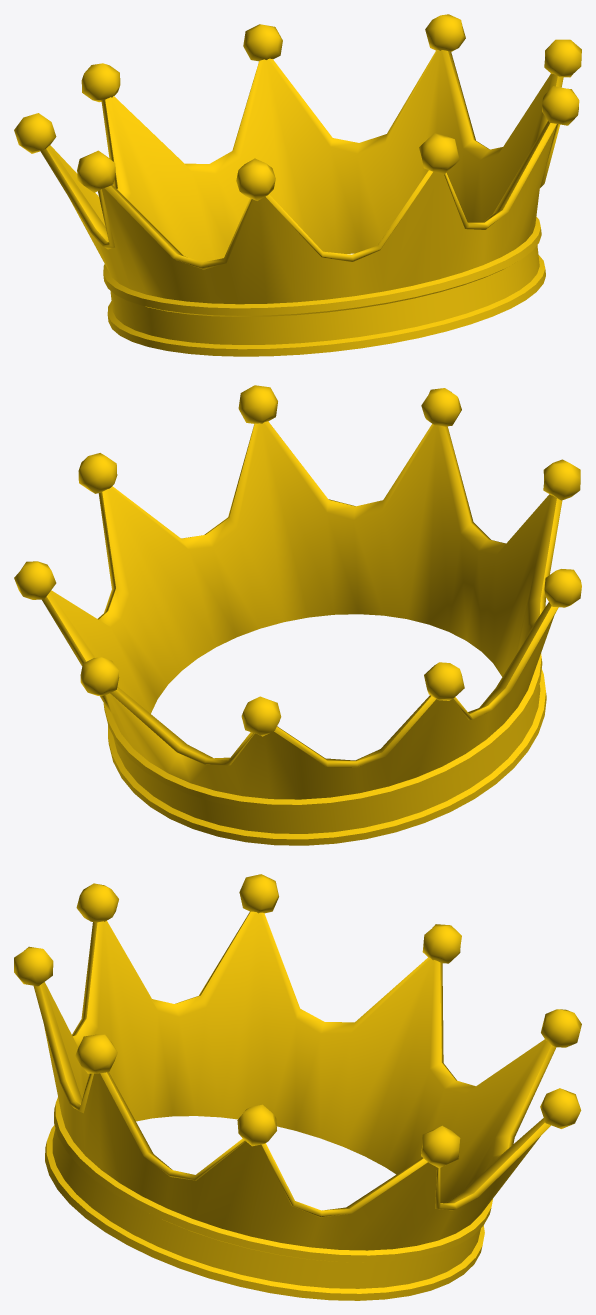
File: Hat_36_01.fbx
3 views of the same model, one above another, from view 1: azimuth 30°, elevation 25°; view 2: azimuth 150°, elevation 25°; view 3: azimuth 270°, elevation 25° (orthographic).
Parts seen in each view (by area): view 1: Hat_36_01; view 2: Hat_36_01; view 3: Hat_36_01.
Part boxes in pixels (x1,y1,x2,y2): Hat_36_01: (14,14,581,356); Hat_36_01: (14,385,581,845); Hat_36_01: (14,874,581,1300).
Bounding box in the file's own units: 48.35 × 26.27 × 46.62.
